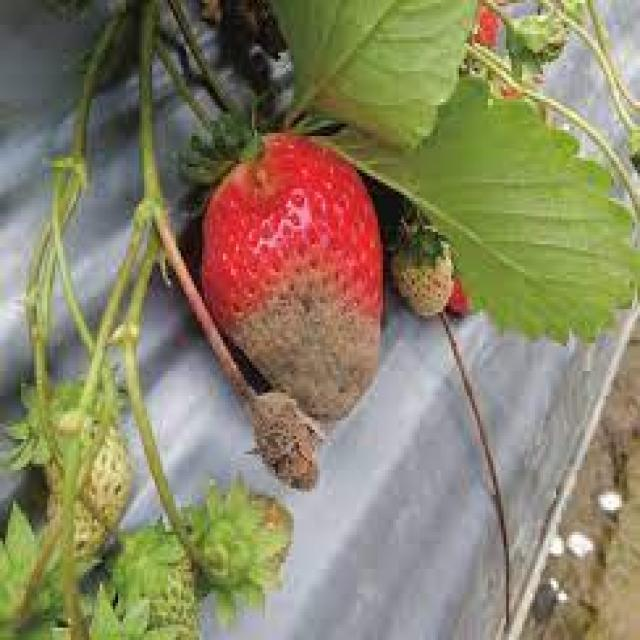Moho gris: (194, 134, 376, 411), (236, 382, 332, 508)
